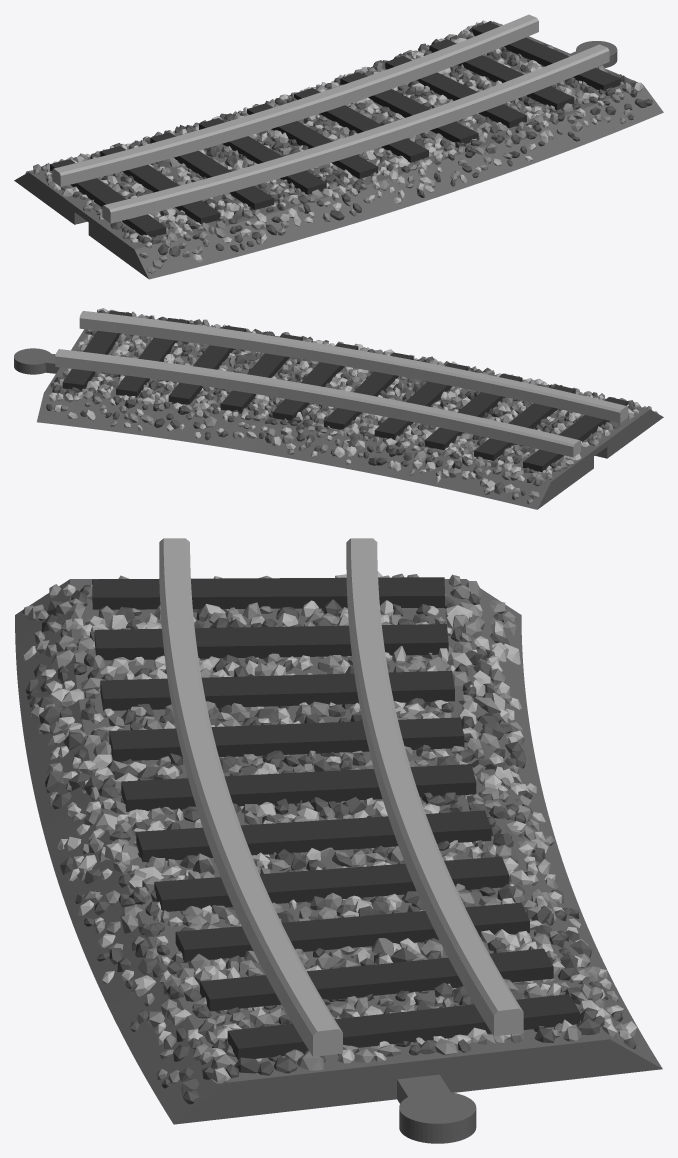
File: Rail_Curve_Left.obj
3 views of the same model, one above another, from view 1: azimuth 30°, elevation 25°; view 2: azimuth 150°, elevation 25°; view 3: azimuth 270°, elevation 25° (orthographic). The views are drawn at different scales.
Visible parts, largest first — view 1: Rail_Curve_Left; view 2: Rail_Curve_Left; view 3: Rail_Curve_Left.
Part boxes in pixels (bbox=[...]): Rail_Curve_Left: bbox=[14, 14, 663, 279]; Rail_Curve_Left: bbox=[14, 308, 663, 509]; Rail_Curve_Left: bbox=[15, 538, 662, 1143].
Bounding box in the file's own units: 1.14 × 0.08 × 0.5885.
Materials: 1 (1 with a texture image).
